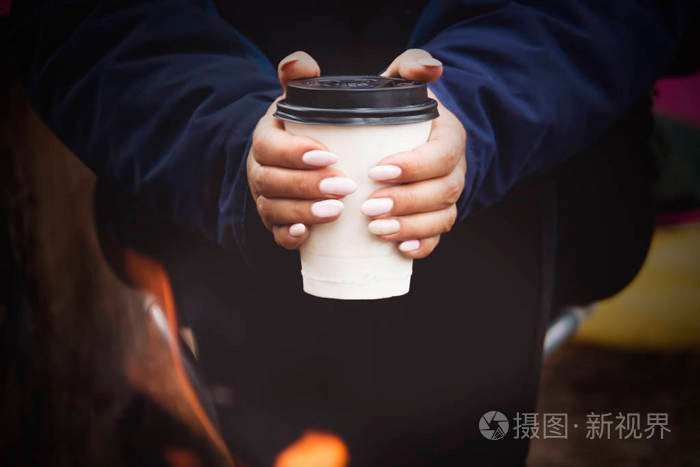no-phone: (242, 41, 469, 298)
